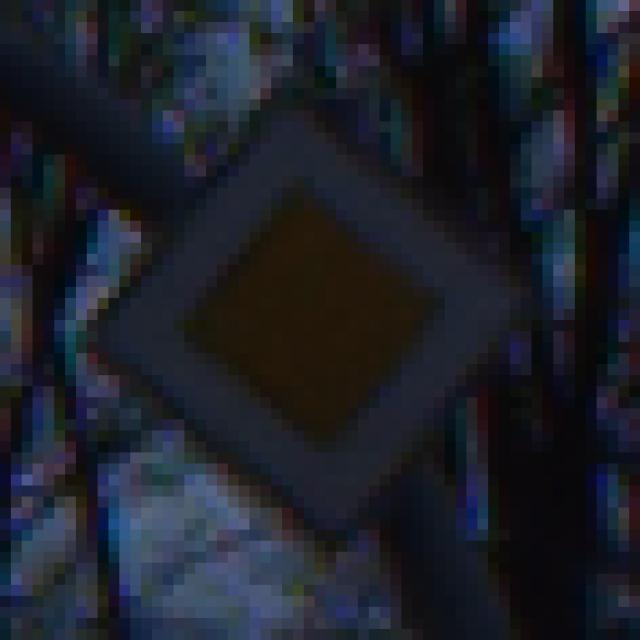Main Road: (66, 56, 587, 586)
